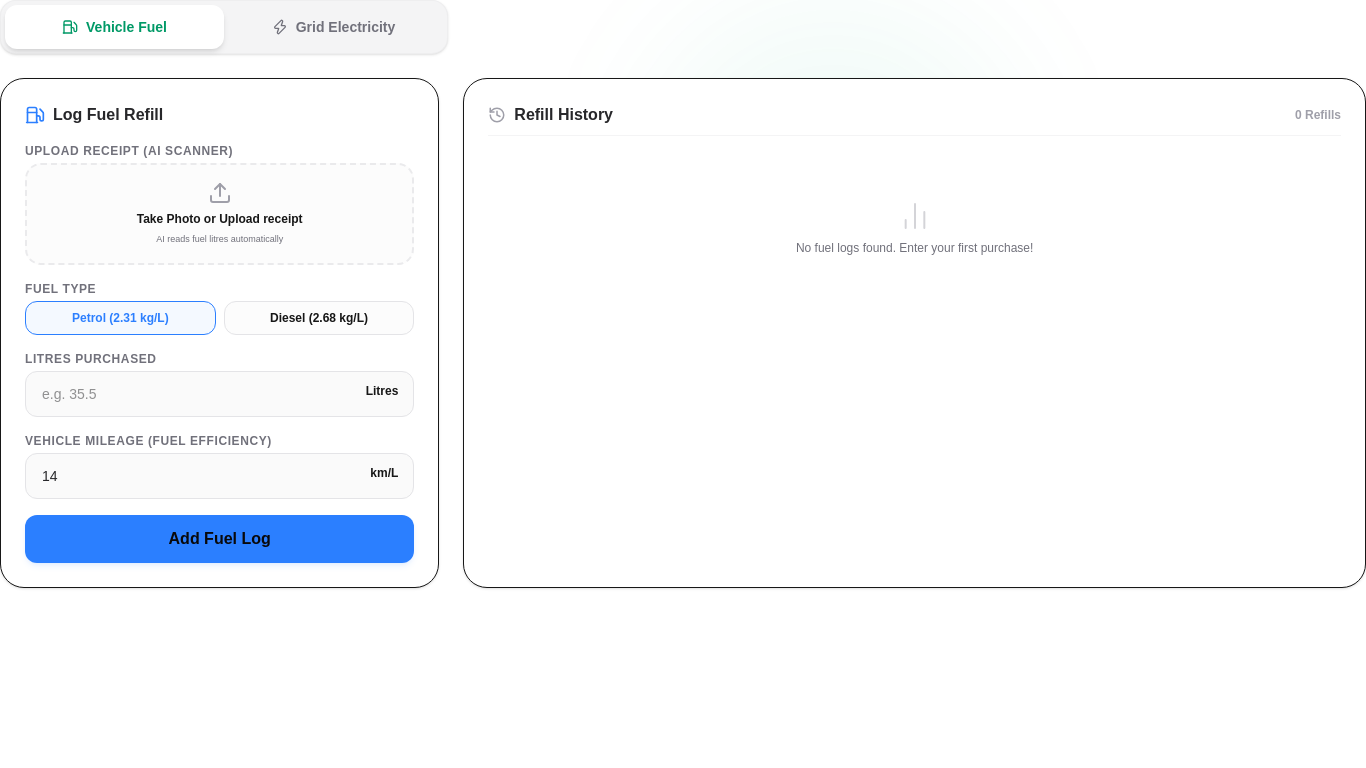
Test: LoggersView Validation Tests › Fuel Litres Input › rejects a zero value
The image size is (1366, 768).
// Enter zero litres
Type "0" into the number field labelled "Litres Purchased".
click(220, 394); type("0")  # box [25,370,414,416]
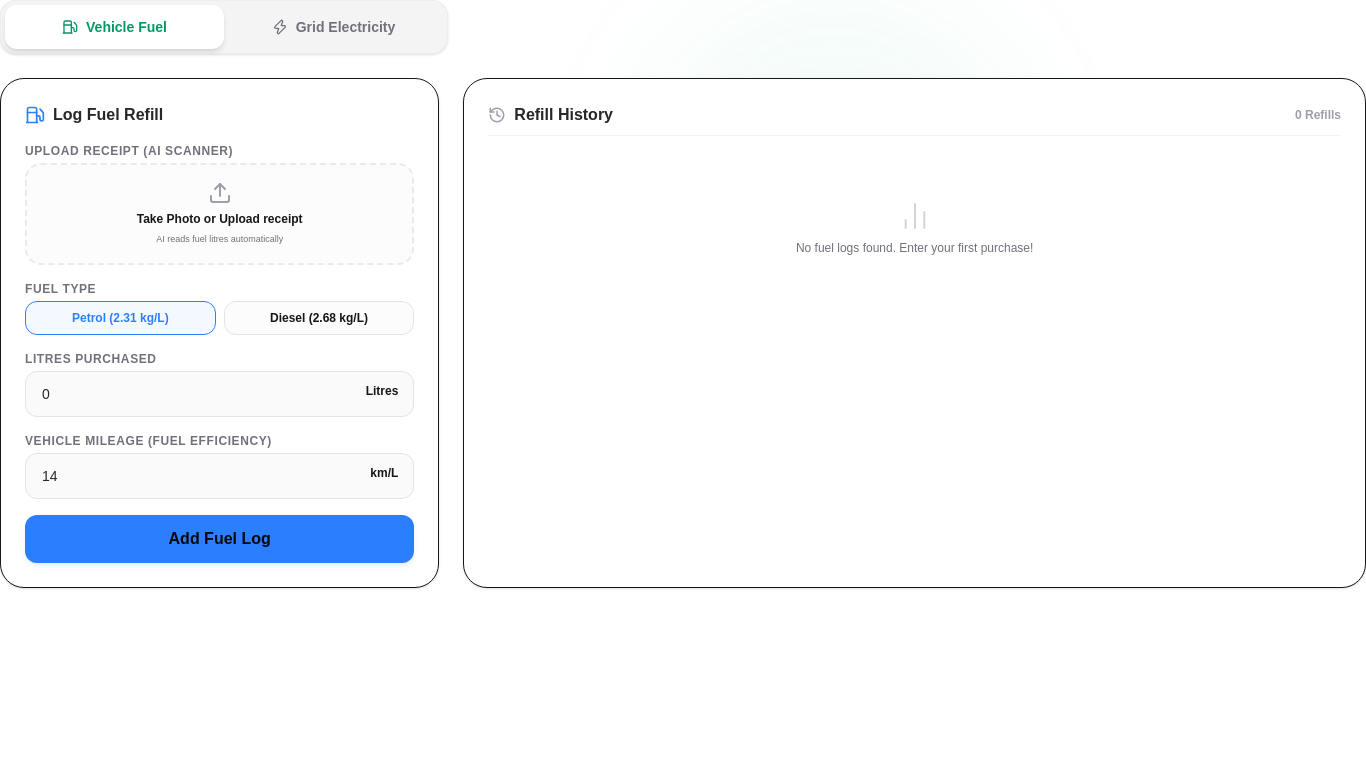
Click the button "Add Fuel Log".
click(220, 538)  # box [25,514,414,562]
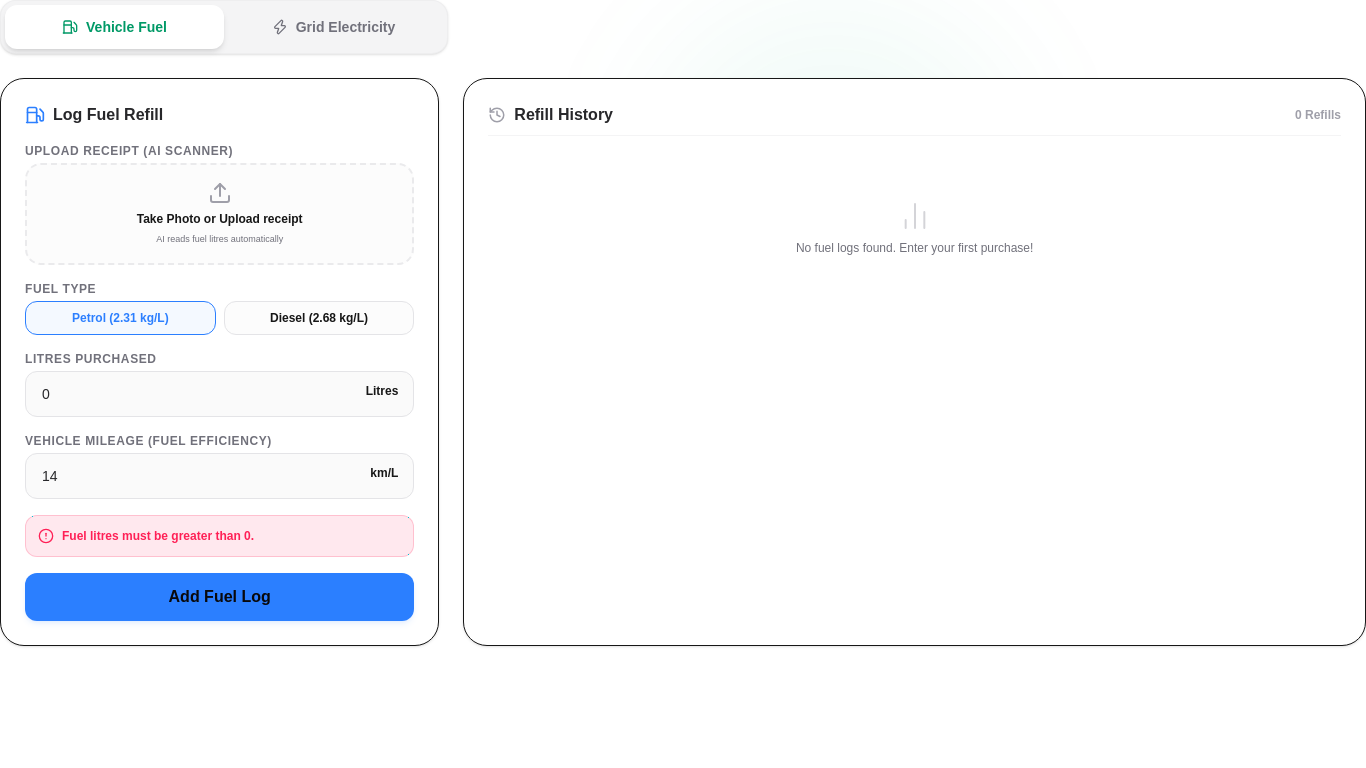
Expected: the message shows "Fuel litres must be greater than 0", [62,528,254,542]
